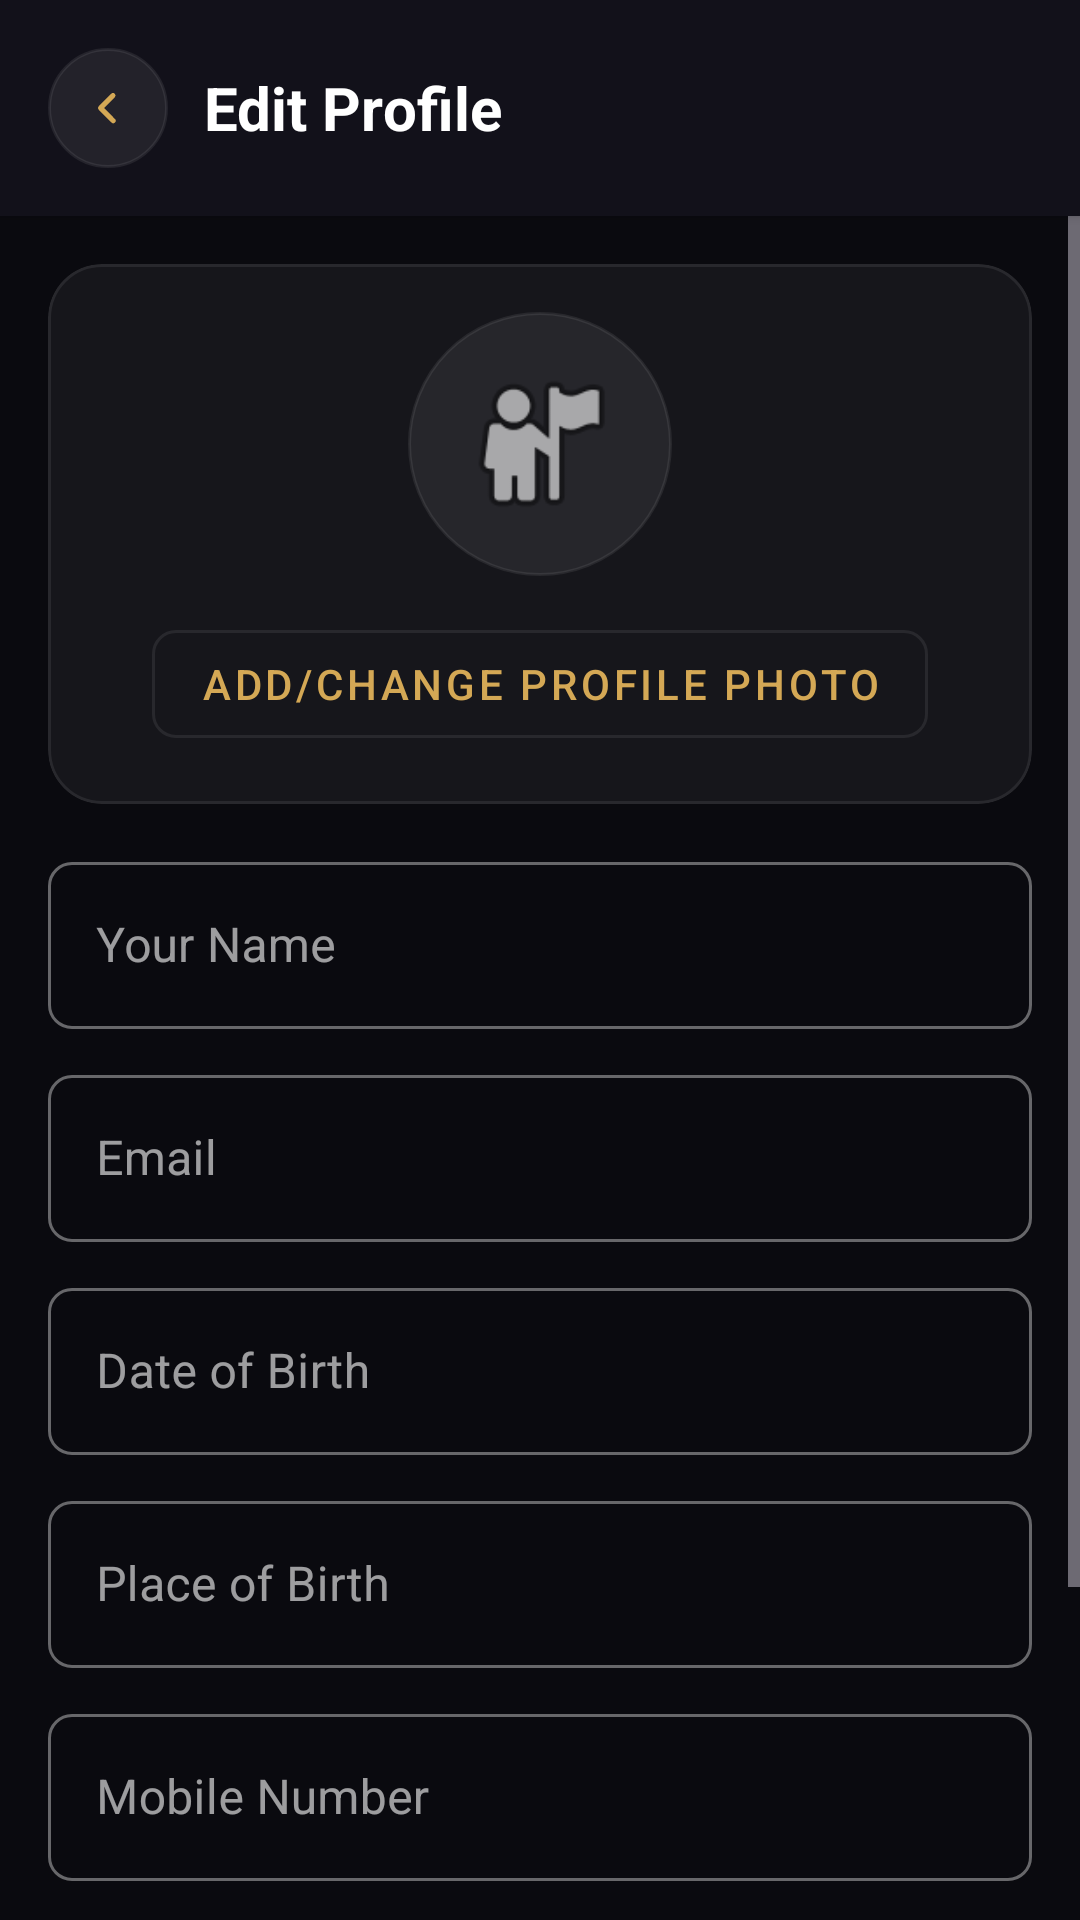

Icons on this 1080px×1920px Android screen, each with its box as (left=x1, top=y1, right=x2, bottom=y2):
Go back: (left=48, top=48, right=168, bottom=168)
